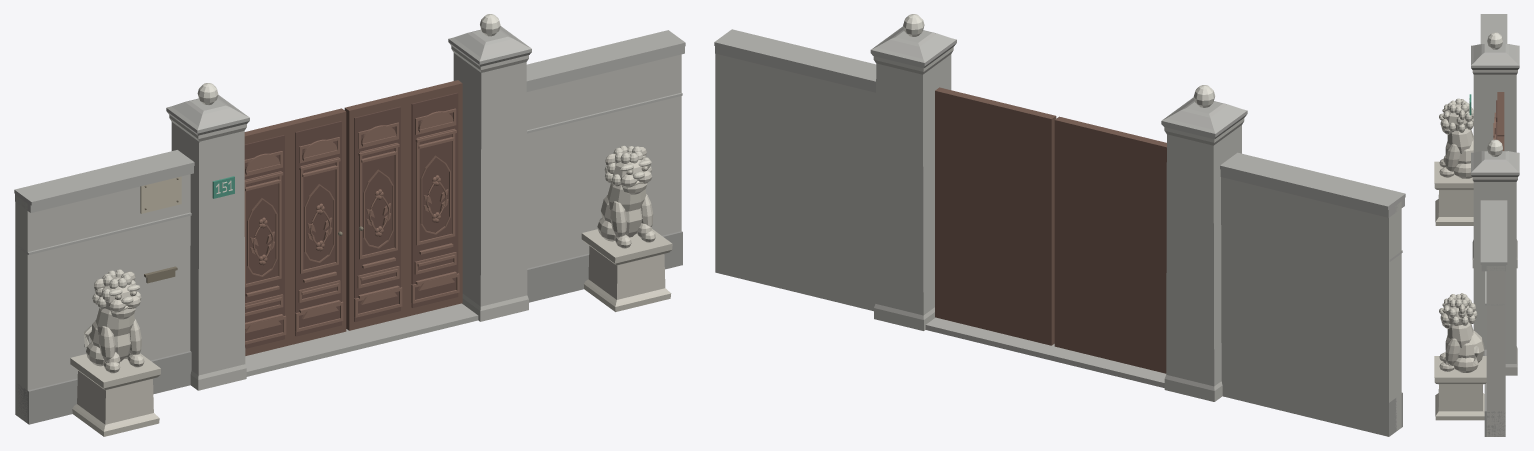
The model's file is xuhui-zhu-mintang-residence-lod.glb.
3 renders of one model, left to right at view 1: azimuth 30°, elevation 25°; view 2: azimuth 150°, elevation 25°; view 3: azimuth 270°, elevation 25°, orthographic. The views are drawn at different scales.
Parts seen in each view (by area): view 1: 朱敏堂住宅乌鲁木齐南路151号街门与双石狮; view 2: 朱敏堂住宅乌鲁木齐南路151号街门与双石狮; view 3: 朱敏堂住宅乌鲁木齐南路151号街门与双石狮.
Boxes of the visible parts, left/top/right/bottom form: 朱敏堂住宅乌鲁木齐南路151号街门与双石狮: left=14, top=14, right=685, bottom=436; 朱敏堂住宅乌鲁木齐南路151号街门与双石狮: left=714, top=14, right=1405, bottom=436; 朱敏堂住宅乌鲁木齐南路151号街门与双石狮: left=1434, top=14, right=1519, bottom=436.
Size of the model in its own units: 8.9 by 3.78 by 1.29.
